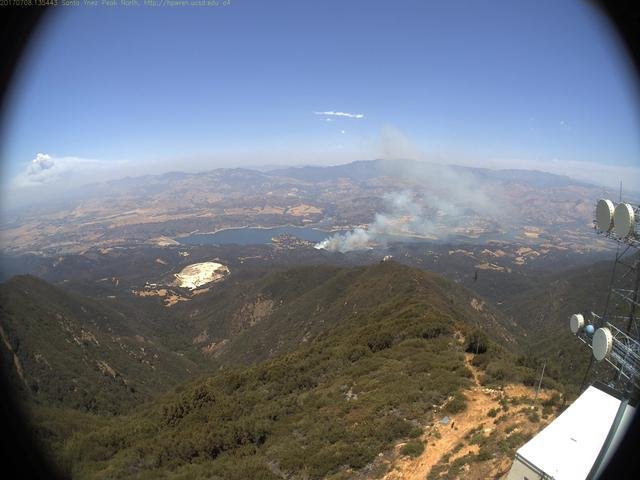smoke: (312, 120, 535, 256)
